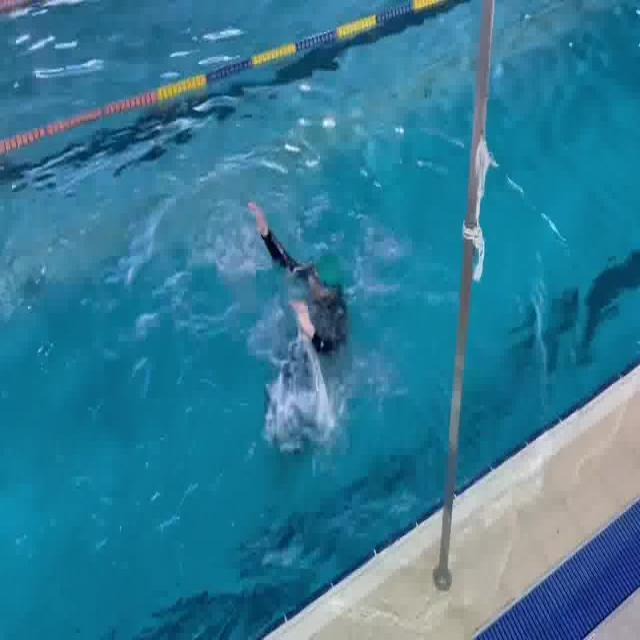Drowning: (249, 203, 350, 358)
